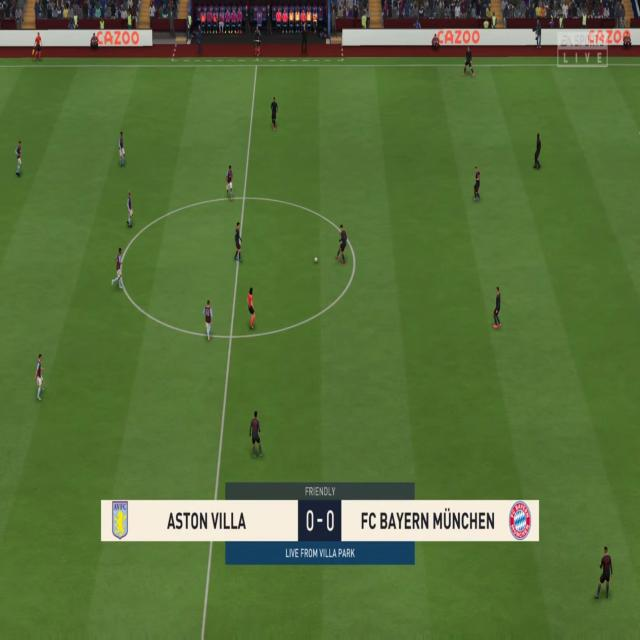Ball: (313, 256, 319, 264)
Referee: (246, 287, 260, 331)
Team-A: (596, 544, 614, 604), (250, 409, 262, 458), (491, 284, 503, 328), (336, 223, 348, 264), (471, 166, 482, 204), (531, 134, 542, 172), (233, 222, 243, 262), (269, 96, 279, 130), (464, 48, 474, 76)
Team-H: (112, 247, 126, 292), (34, 352, 46, 399), (202, 297, 214, 342), (123, 190, 135, 228), (224, 165, 235, 199), (14, 142, 24, 178), (118, 130, 126, 166)
